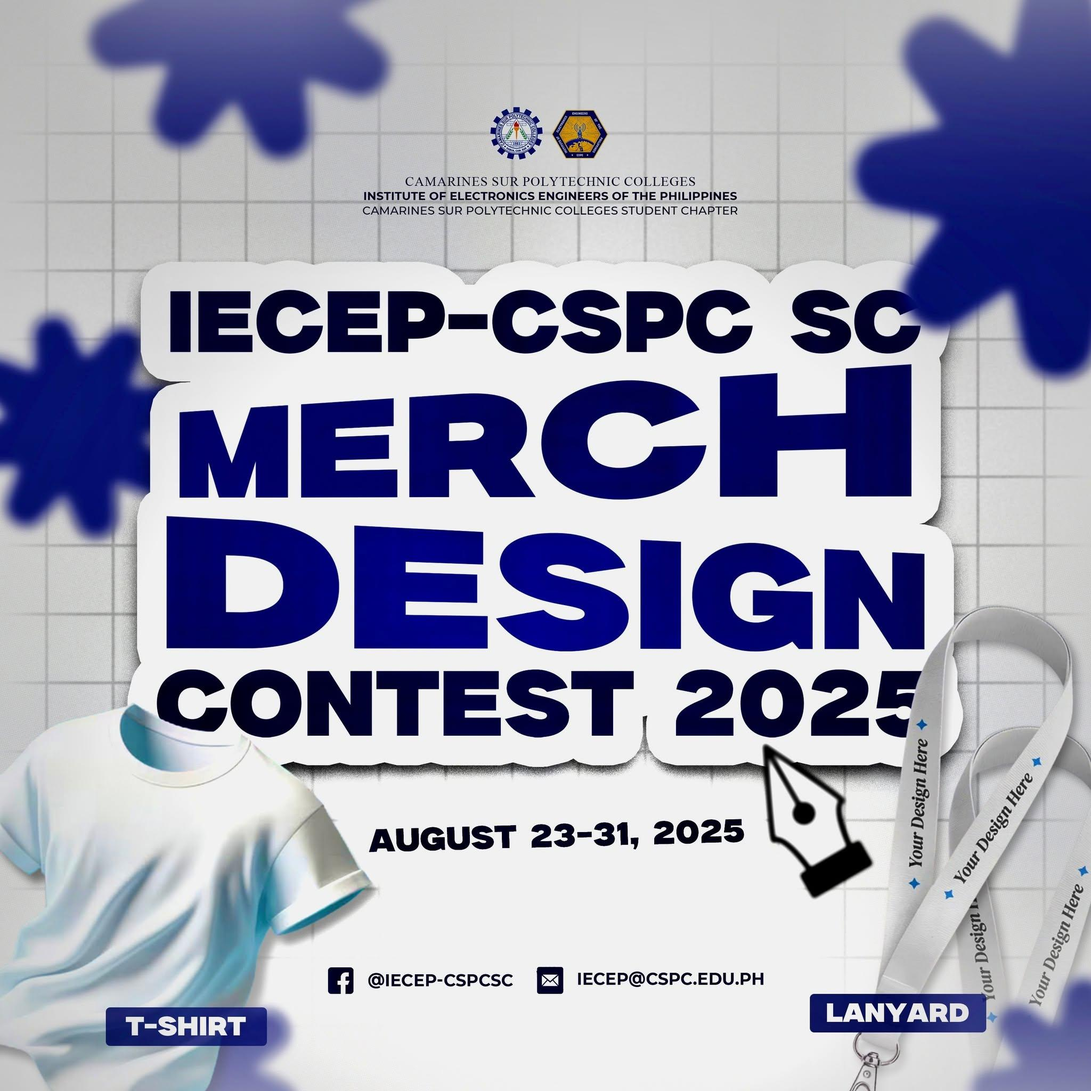embellishment: (0, 701, 373, 1090), (846, 602, 1090, 1090), (848, 0, 1090, 380), (80, 0, 396, 154), (0, 316, 161, 544), (755, 735, 872, 900), (533, 960, 570, 999), (326, 962, 361, 998)
logo: (487, 101, 549, 165), (550, 104, 612, 164)
text: (163, 292, 925, 739), (357, 170, 746, 222), (363, 818, 753, 857), (576, 965, 768, 992), (821, 996, 977, 1026), (362, 966, 519, 992), (119, 1010, 251, 1039)
underlay: (128, 263, 961, 774), (806, 987, 995, 1032), (107, 1003, 268, 1050)
